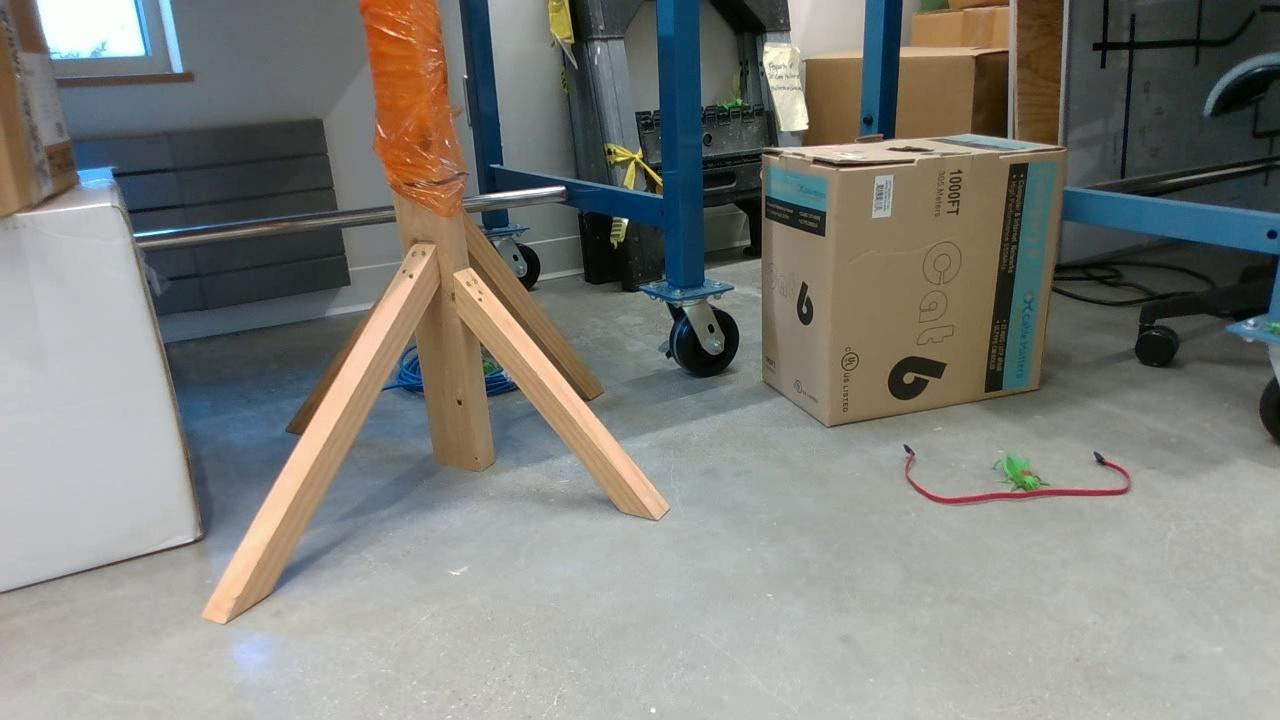grasshopper: (990, 454, 1054, 491), (716, 98, 749, 107)
